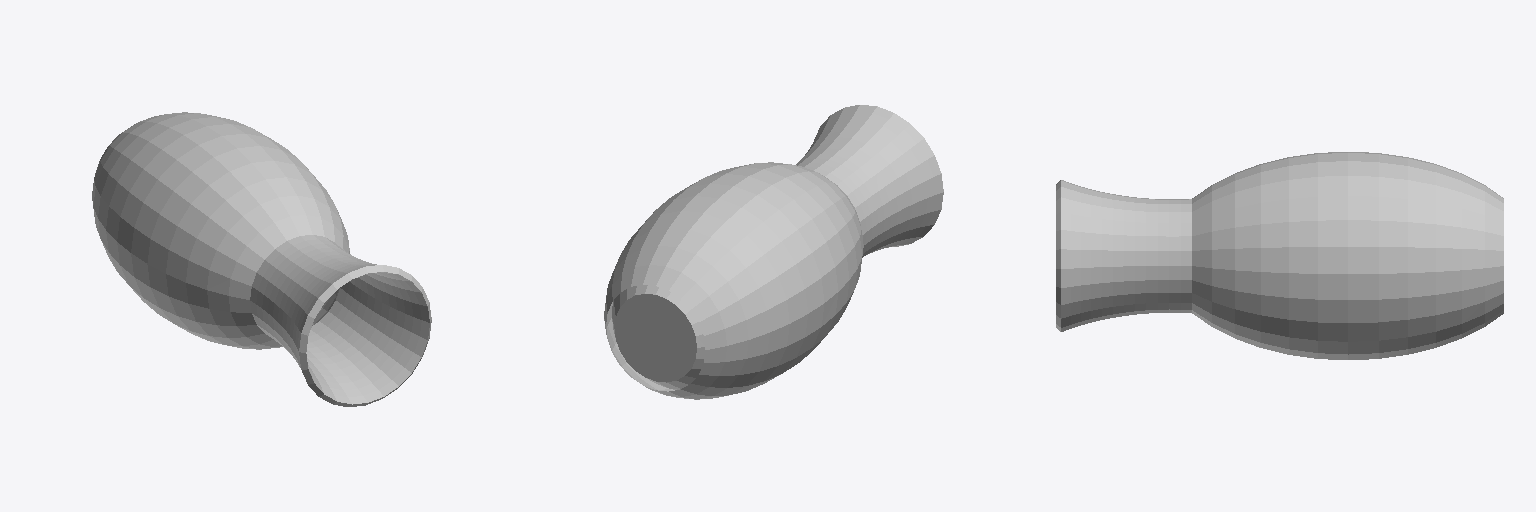
Rendered from model_align.obj.
The picture shows the model from 3 angles: view 1: azimuth 30°, elevation 25°; view 2: azimuth 150°, elevation 25°; view 3: azimuth 270°, elevation 25°; orthographic projection.
Visible parts, largest first — view 1: mesh1_mesh1-geometry; view 2: mesh1_mesh1-geometry; view 3: mesh1_mesh1-geometry.
Part boxes in pixels (left/top/right/bottom): mesh1_mesh1-geometry: left=92, top=112, right=431, bottom=406; mesh1_mesh1-geometry: left=604, top=105, right=943, bottom=399; mesh1_mesh1-geometry: left=1056, top=152, right=1503, bottom=359.
Size of the model in its own units: 0.1076 by 0.1076 by 0.2303.